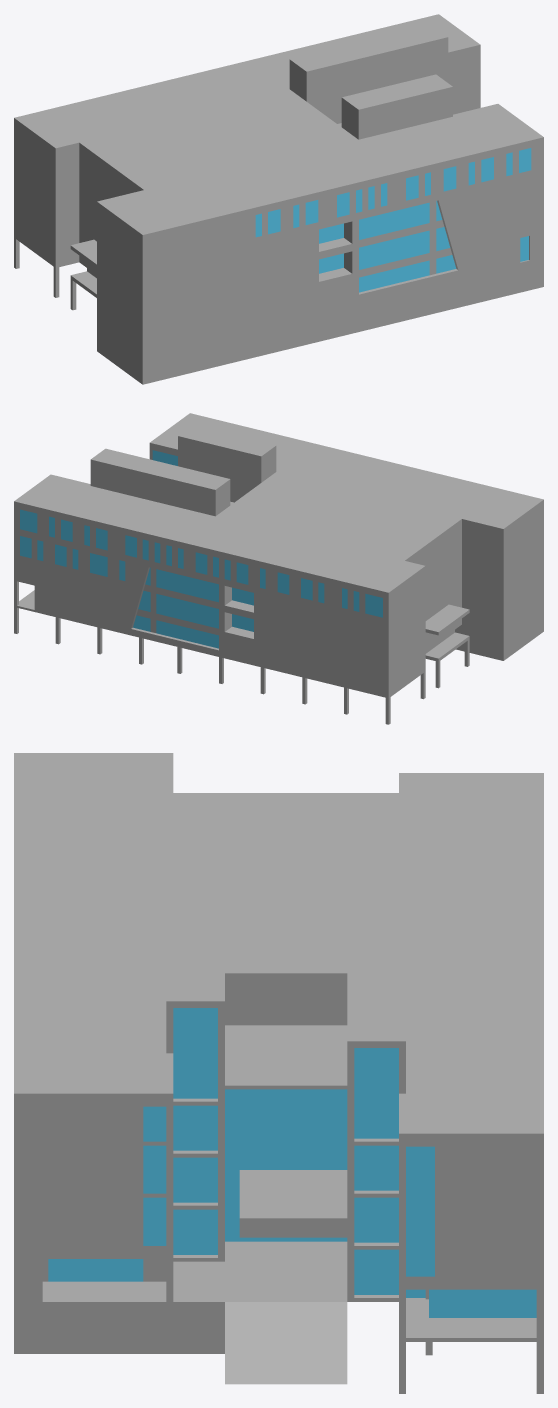
File: NuRi.glb
The picture shows the model from 3 angles, top to bottom: view 1: azimuth 30°, elevation 25°; view 2: azimuth 150°, elevation 25°; view 3: azimuth 270°, elevation 25°; orthographic projection. The views are drawn at different scales.
Parts seen in each view (by area): view 1: Main Grey, Window; view 2: Main Grey, Window; view 3: Main Grey, Window.
Part boxes in pixels (x1=…): Main Grey: x1=14, y1=14, x2=543, y2=384; Window: x1=255, y1=148, x2=531, y2=292; Main Grey: x1=14, y1=413, x2=543, y2=724; Window: x1=20, y1=450, x2=382, y2=648; Main Grey: x1=14, y1=753, x2=543, y2=1393; Window: x1=48, y1=1008, x2=536, y2=1317.
Size of the model in its own units: 62.7 by 24 by 36.9.
